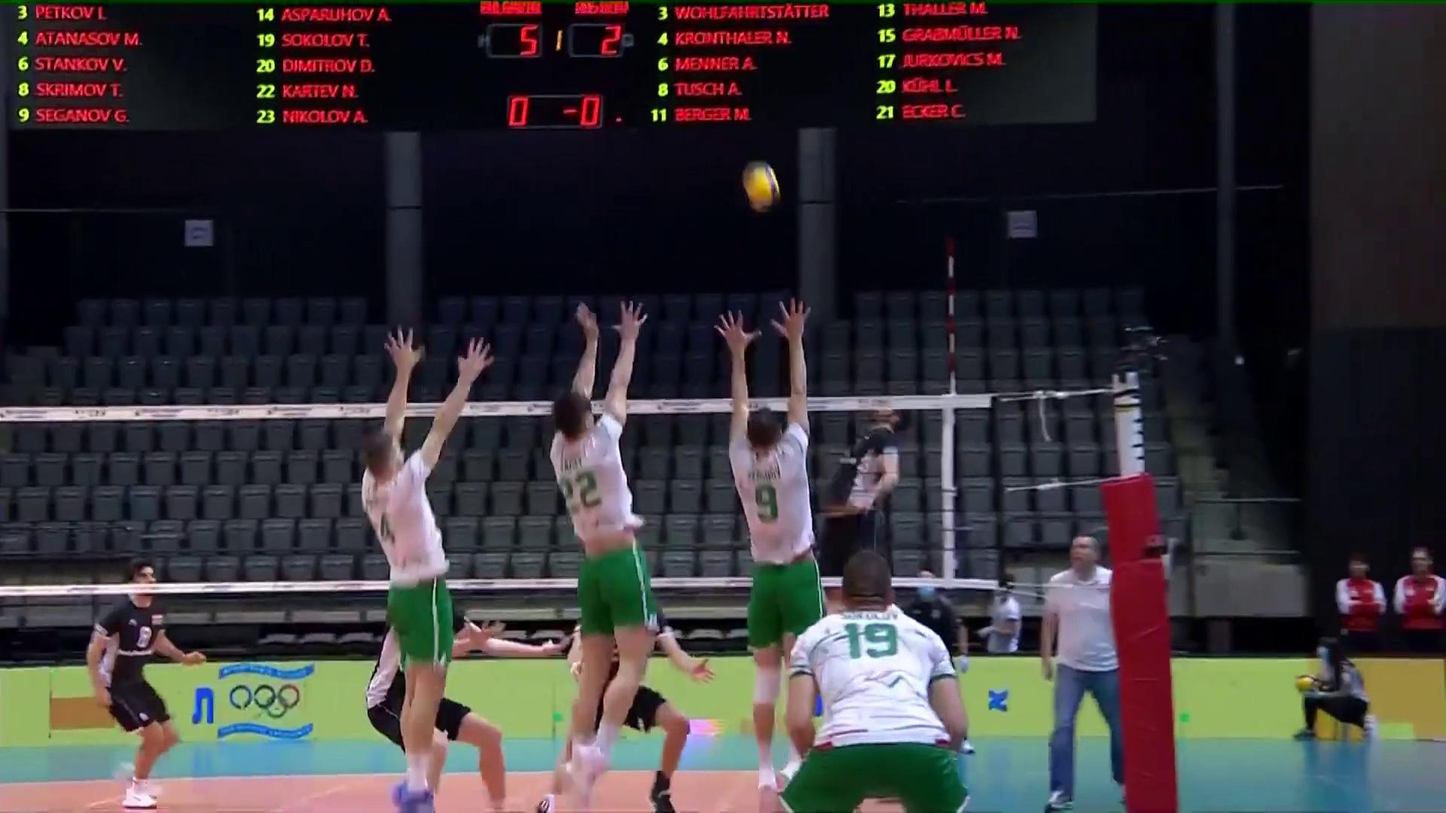ball: (744, 163, 780, 209)
